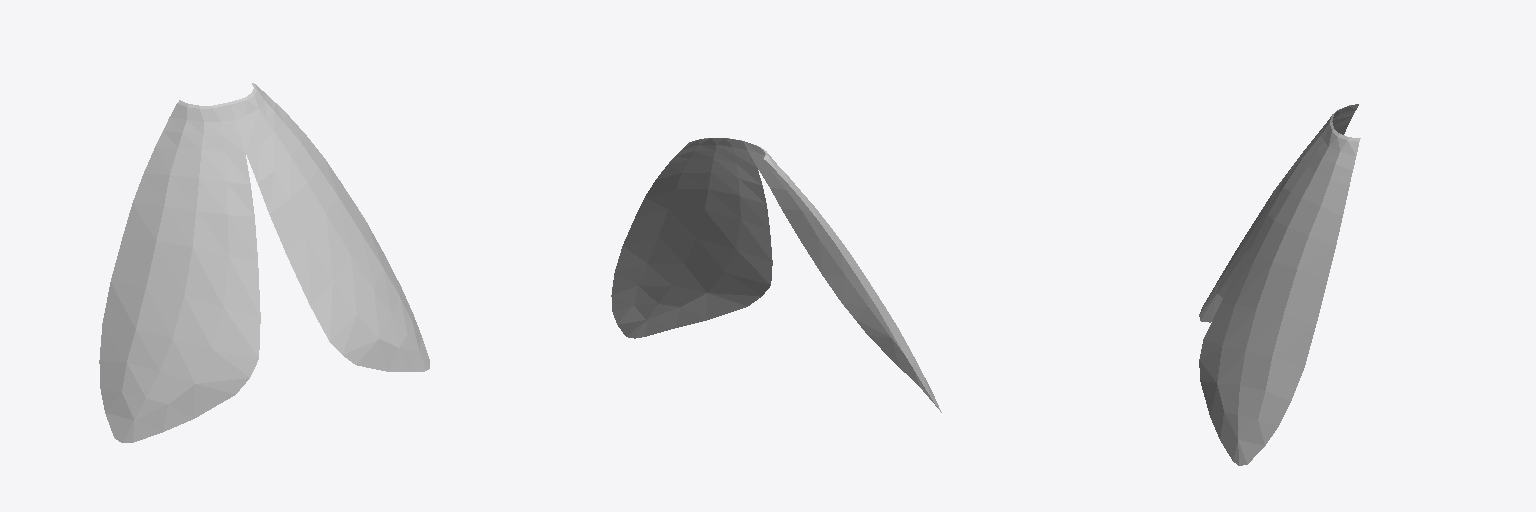
Rendered from skinSource0FNE.obj.
The picture shows the model from 3 angles: view 1: azimuth 30°, elevation 25°; view 2: azimuth 150°, elevation 25°; view 3: azimuth 270°, elevation 25°; orthographic projection.
Visible parts, largest first — view 1: skinSource0FNE; view 2: skinSource0FNE; view 3: skinSource0FNE.
Boxes of the visible parts, <box> form: skinSource0FNE: <box>99,83,429,442</box>; skinSource0FNE: <box>611,138,941,412</box>; skinSource0FNE: <box>1199,104,1360,465</box>.
Bounding box in the file's own units: 68.46 × 55.81 × 30.23.